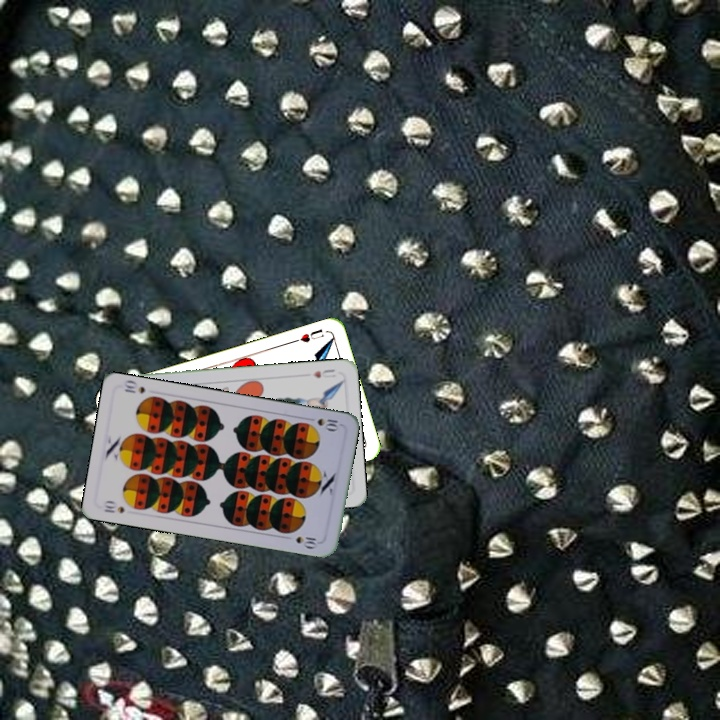HU: (290, 325, 327, 345), (309, 365, 339, 380)
S10: (303, 414, 343, 433), (100, 497, 127, 516)
